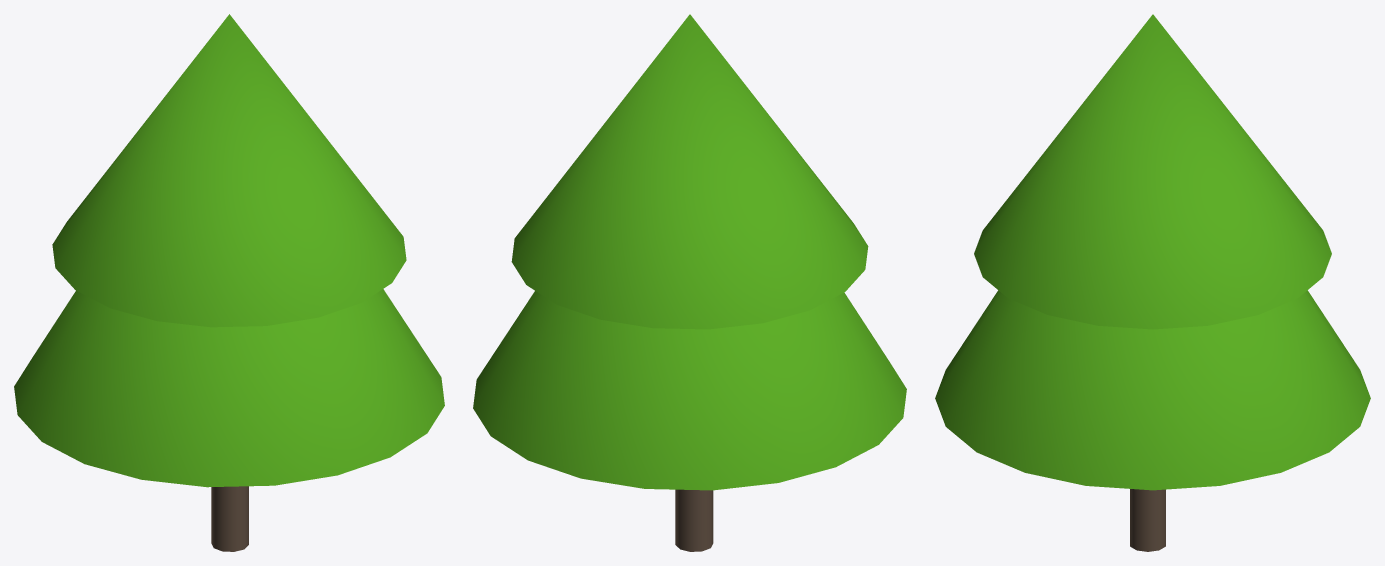
File: Isl_20_Tree_1.fbx
The picture shows the model from 3 angles, left to right: view 1: azimuth 30°, elevation 25°; view 2: azimuth 150°, elevation 25°; view 3: azimuth 270°, elevation 25°; orthographic projection.
Parts seen in each view (by area): view 1: Isl_20_Tree_1; view 2: Isl_20_Tree_1; view 3: Isl_20_Tree_1.
Part boxes in pixels (left/top/right/bottom): Isl_20_Tree_1: left=14, top=14, right=444, bottom=551; Isl_20_Tree_1: left=473, top=14, right=906, bottom=551; Isl_20_Tree_1: left=935, top=14, right=1370, bottom=551.
Size of the model in its own units: 163 by 163 by 219.
1 material, 1 textured.
